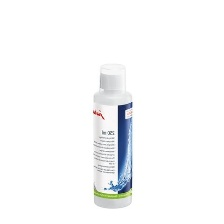cleaning_solution: (90, 60, 137, 211)
